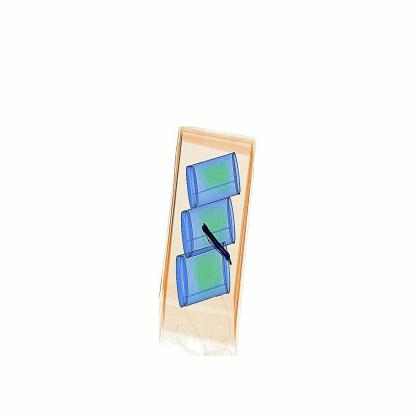knife: (201, 219, 233, 265)
